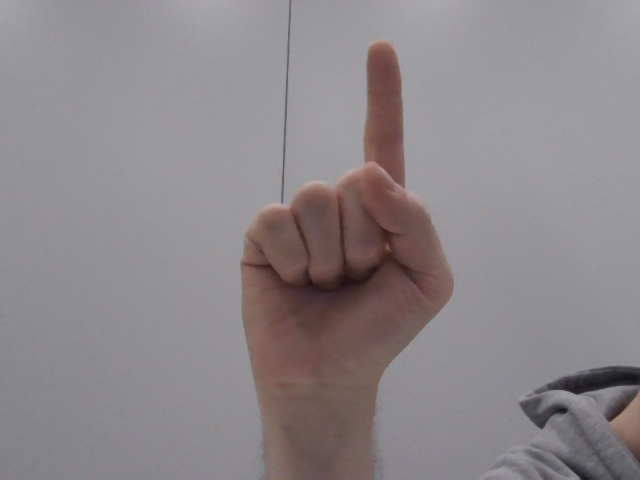up: (221, 32, 486, 423)
